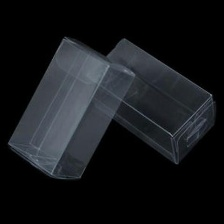plastic_box: (1, 26, 141, 187), (80, 32, 221, 171)
